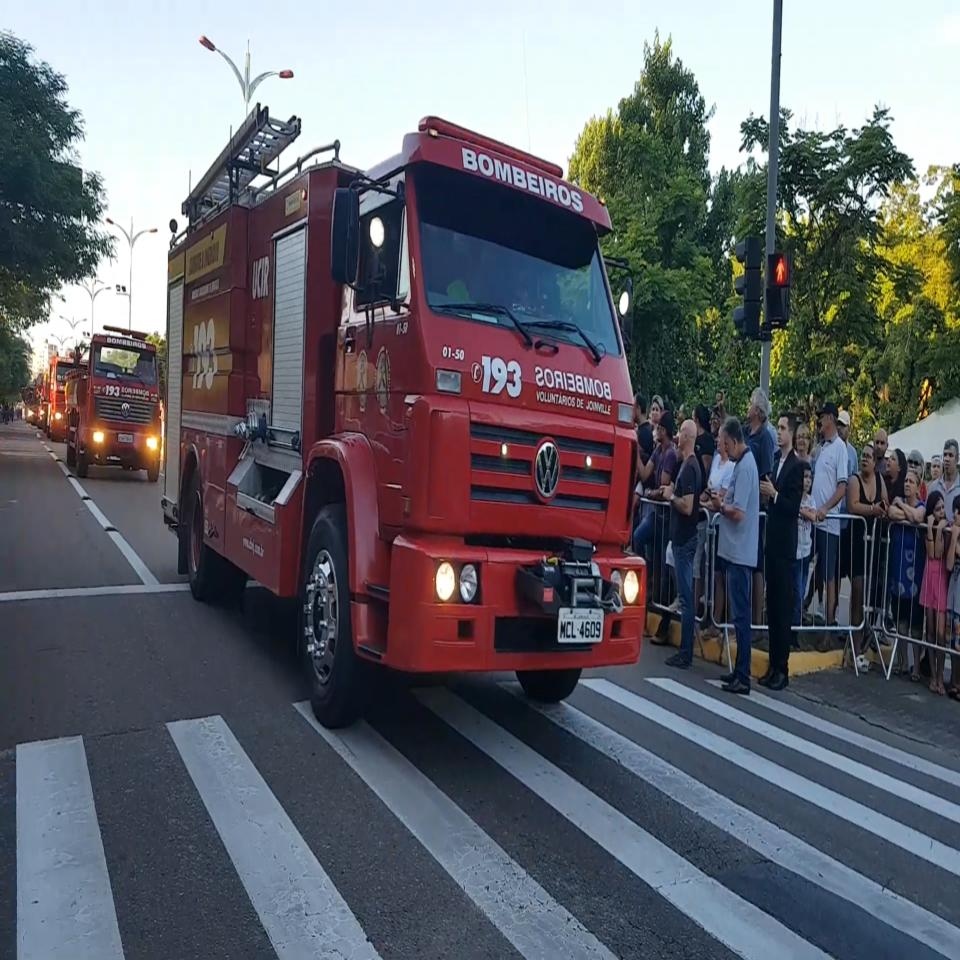viatura: (164, 105, 650, 735)
